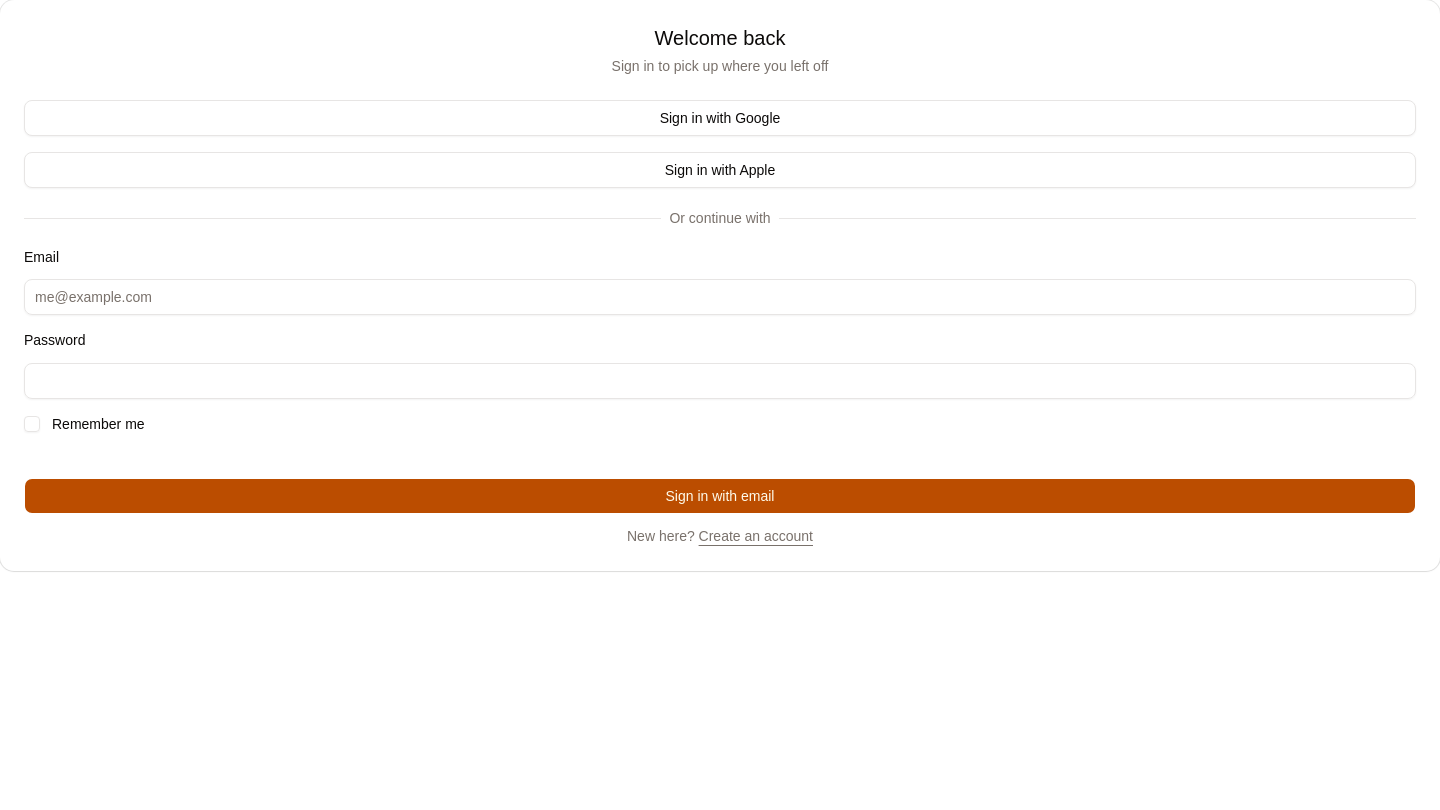
Test: LoginForm › shows error message when auth fails
Type "user@example.com" into the field labelled "Email" at (720,297), box [24, 279, 1416, 315]
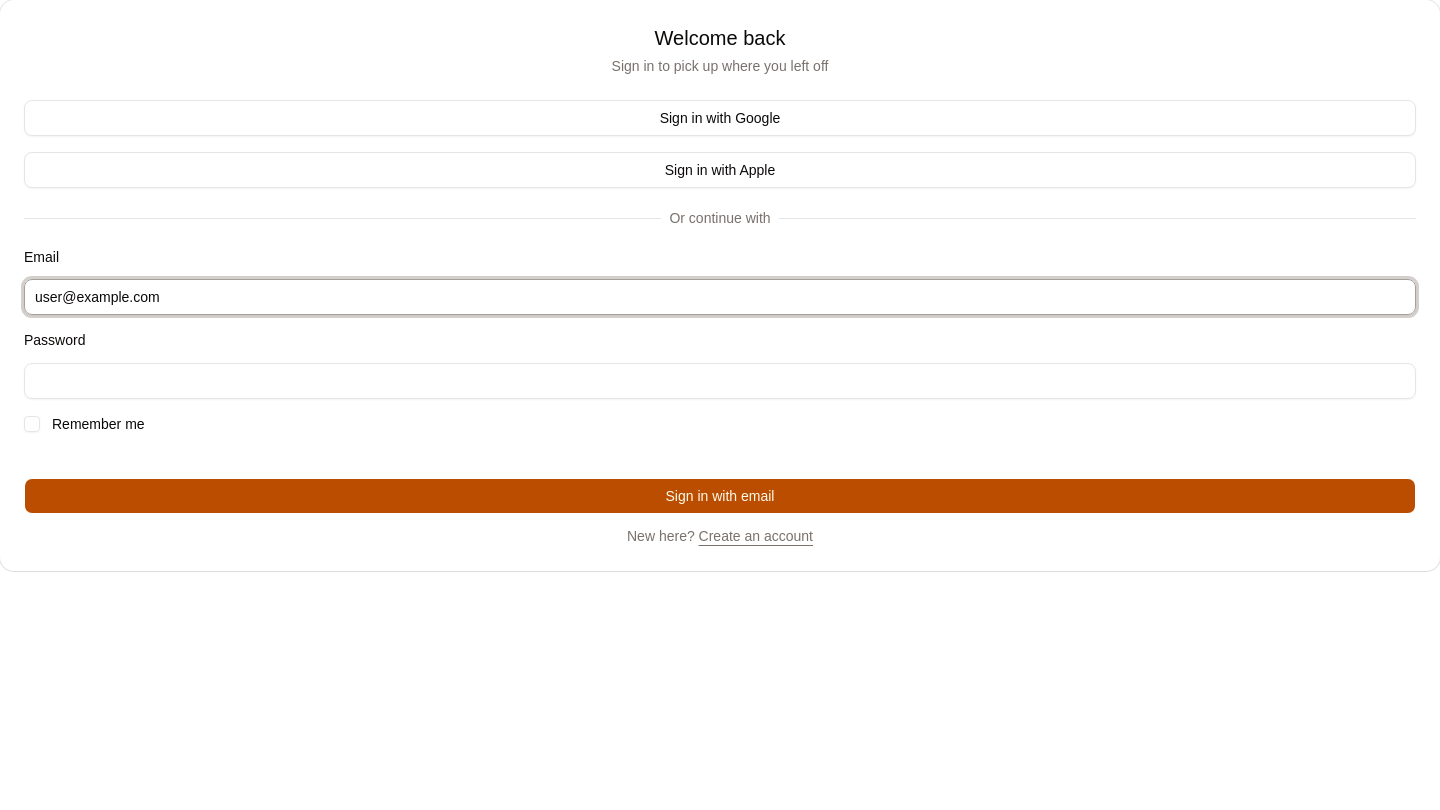
Type "password123" into the password field labelled "Password" at (720,380), box [24, 362, 1416, 398]
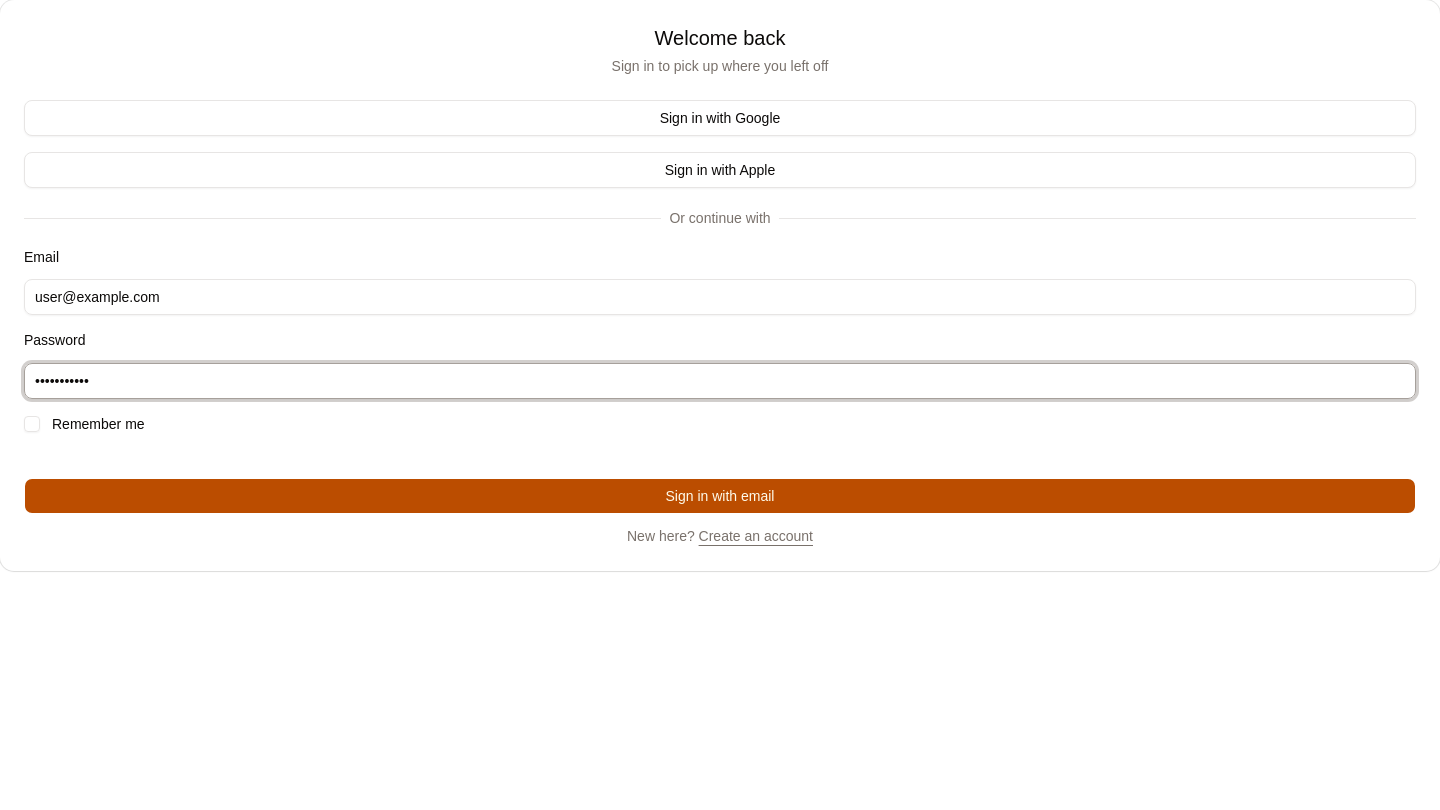
Click the button "Sign in with email" at (720,496), box [24, 478, 1416, 514]
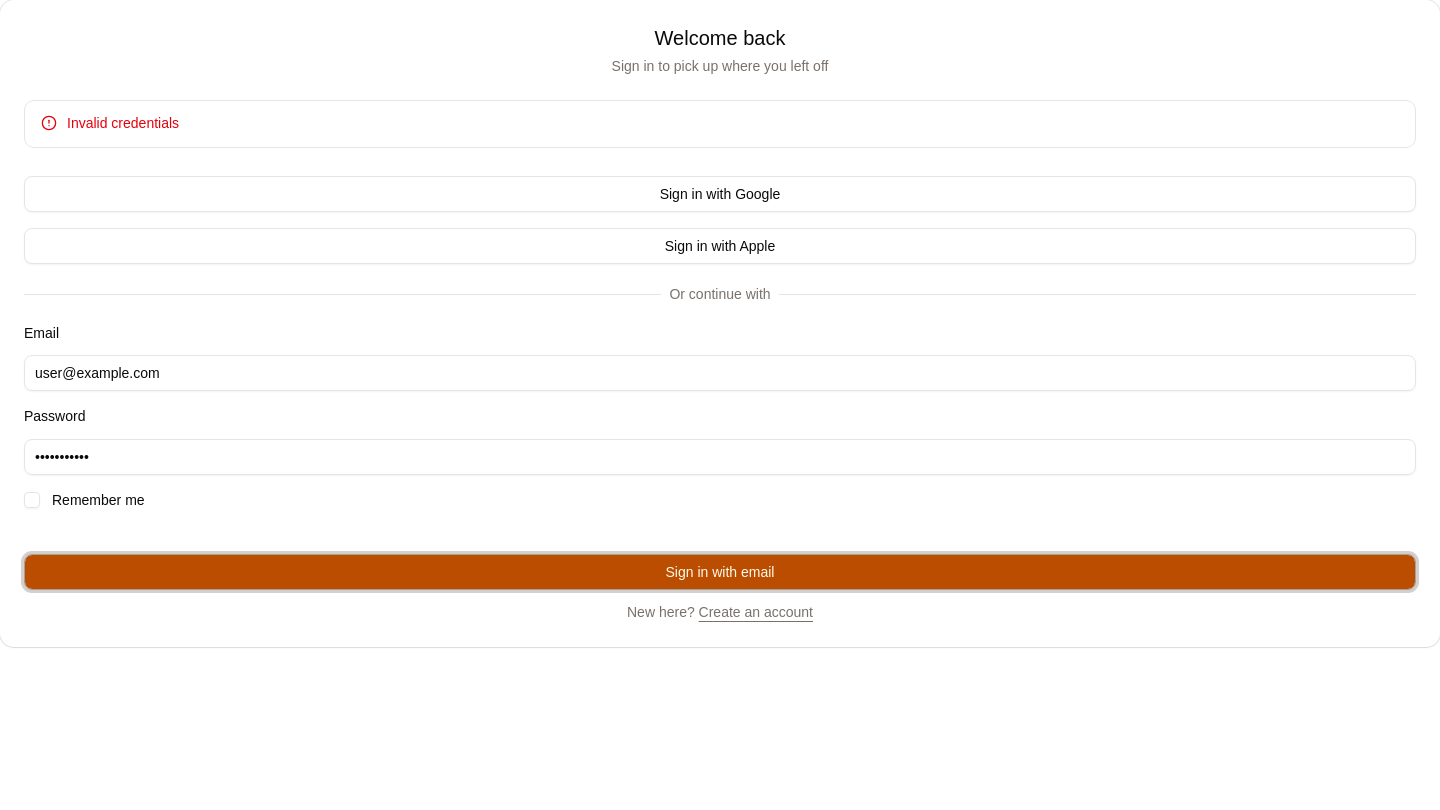
Expected: the text "Invalid credentials" is shown, [67, 115, 179, 131]
